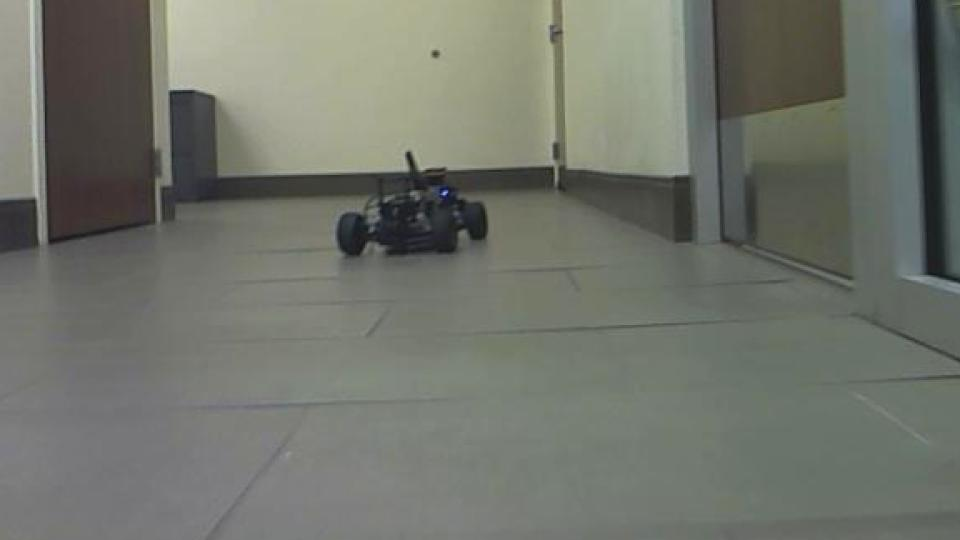car: (334, 146, 494, 262)
